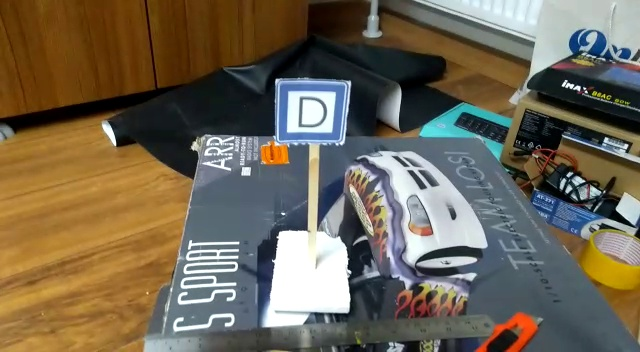durak: (280, 86, 346, 140)
